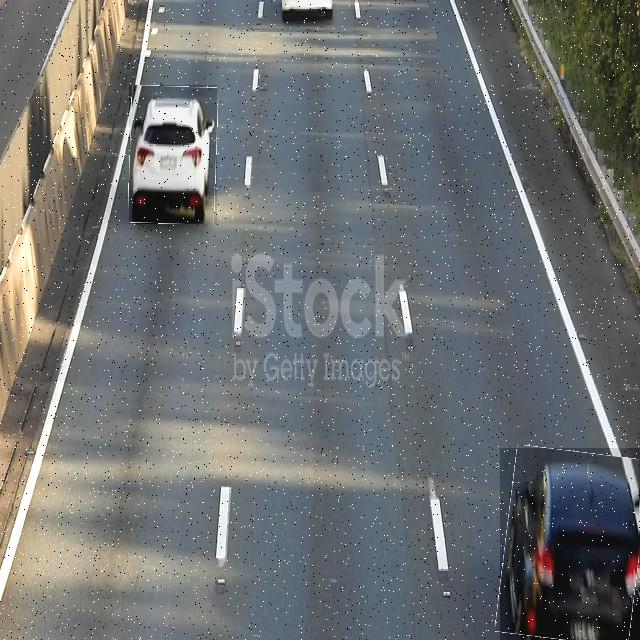Car: (500, 448, 640, 640), (129, 85, 217, 224)
